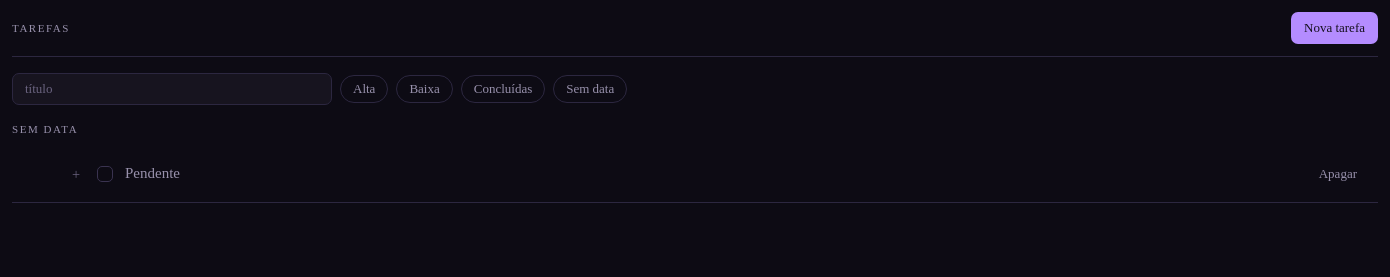
Test: TasksPanel › mostra as concluídas quando o filtro é ligado
This screenshot has width=1390, height=277.
Click the button "Concluídas" at (503, 89), box [461,75,545,103]
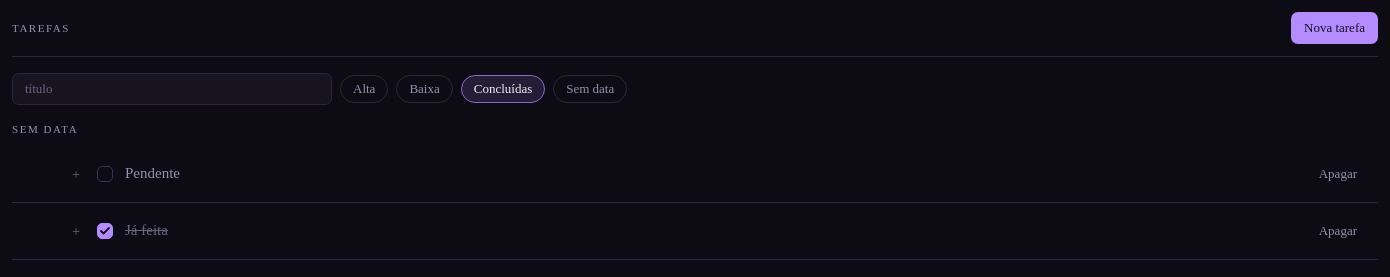
Result: the text "Já feita" is shown at [125,219,168,243]
